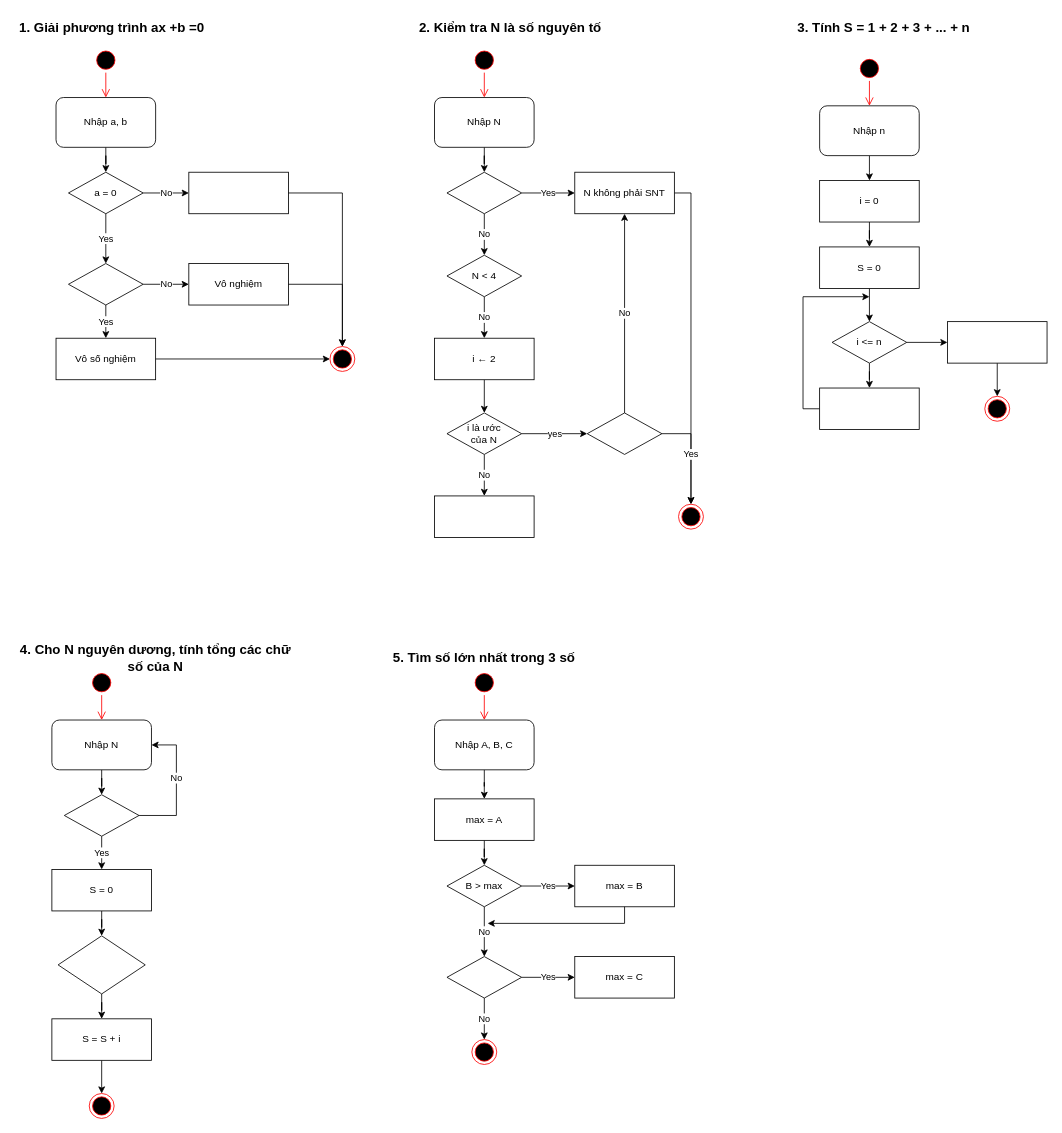
The diagram is 1062 pixels wide and 1133 high, and some of its shapes have lost their labels. The box of each missing label's shape, as (x1, y1, x2, y2) in pixels:
b = 0: (68, 263, 143, 305)
C > max: (446, 956, 522, 998)
i = N: (586, 412, 662, 454)
i ← i + 1: (434, 495, 534, 537)
Lấy chữ số đầu/cuối ( i ): (57, 935, 145, 994)
N = 1: (446, 171, 522, 214)
N > 0: (63, 794, 139, 836)
S = ?: (947, 321, 1047, 363)
S = S + i i = i + 1: (819, 387, 919, 430)
x = -b/a: (188, 171, 288, 214)
